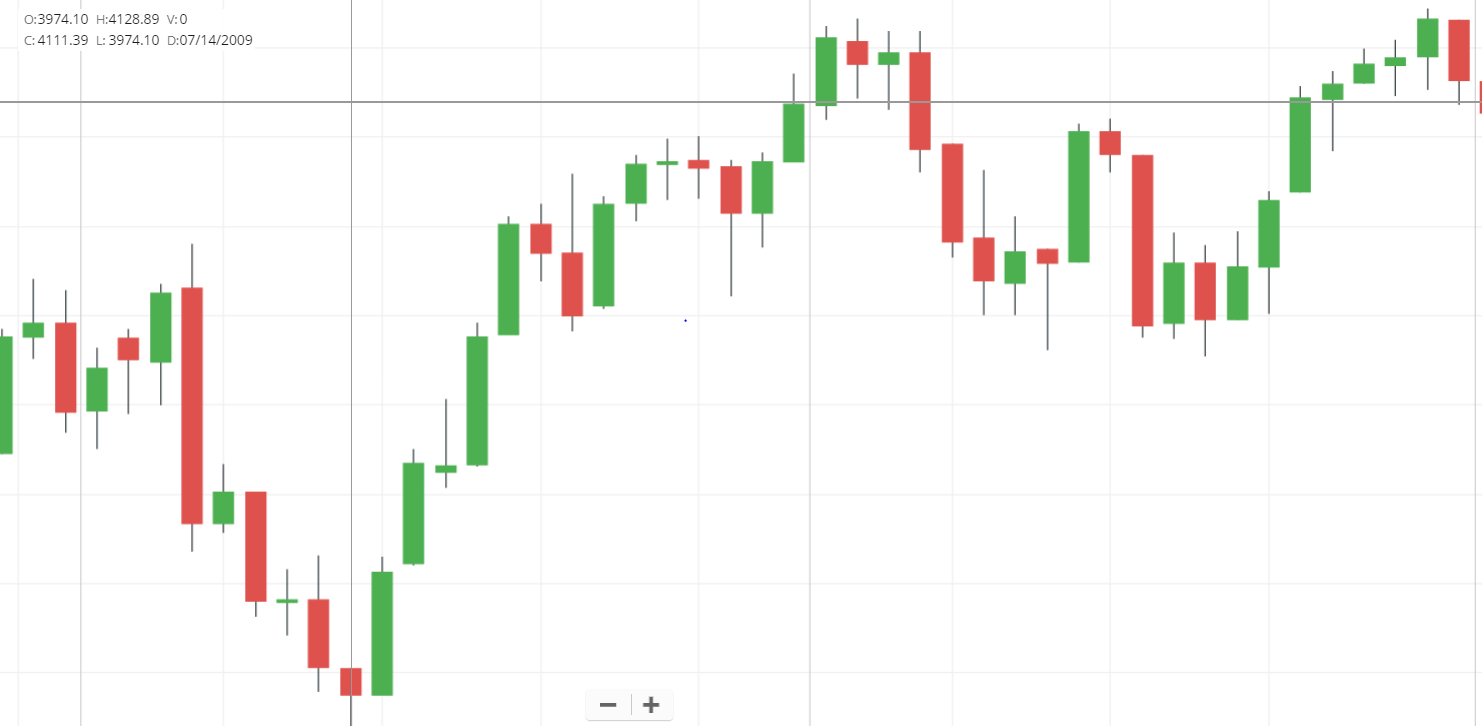doji: (15, 259, 51, 363), (427, 395, 463, 493), (1032, 244, 1063, 355), (1319, 67, 1348, 156), (274, 553, 303, 642), (685, 126, 713, 211), (651, 136, 682, 205)
